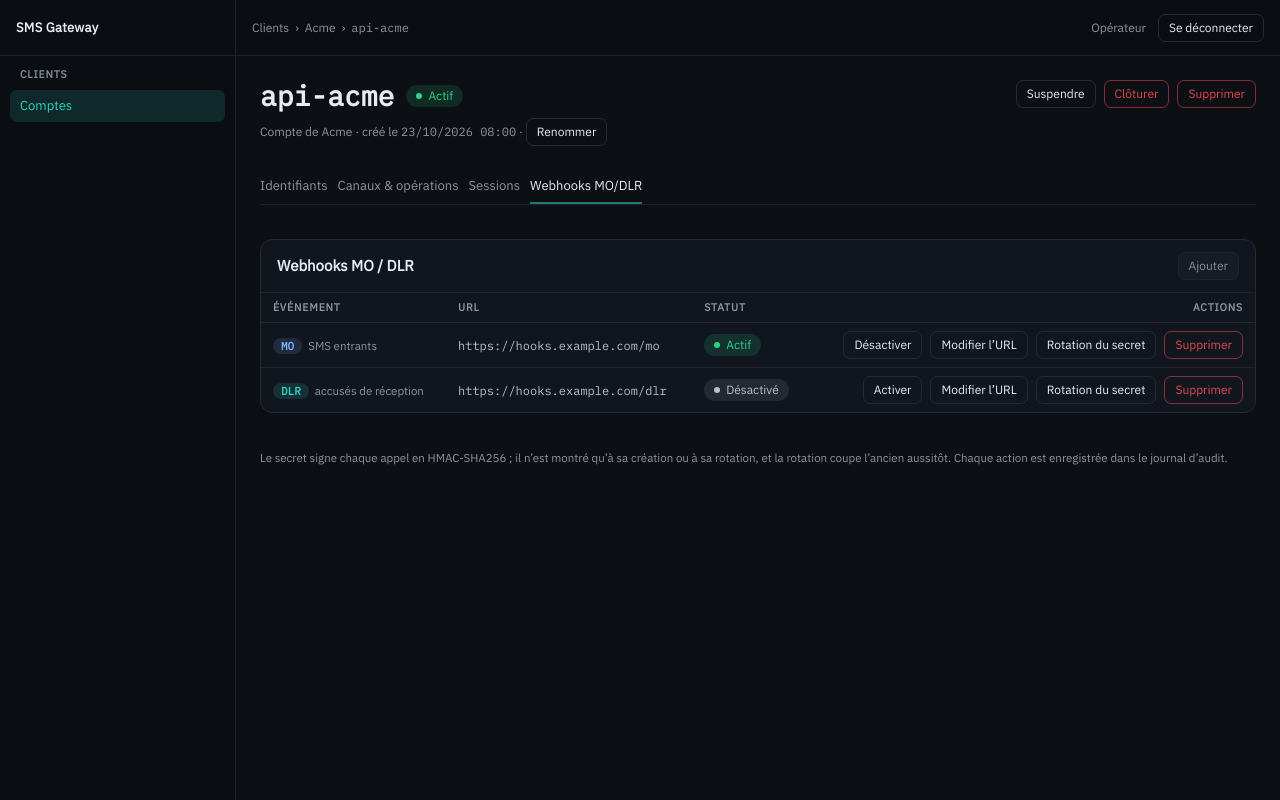
Test: disabling and enabling are confirmed, send the status alone and are told in a toast
Click the button "Désactiver": (883, 345) [844,331,922,359]
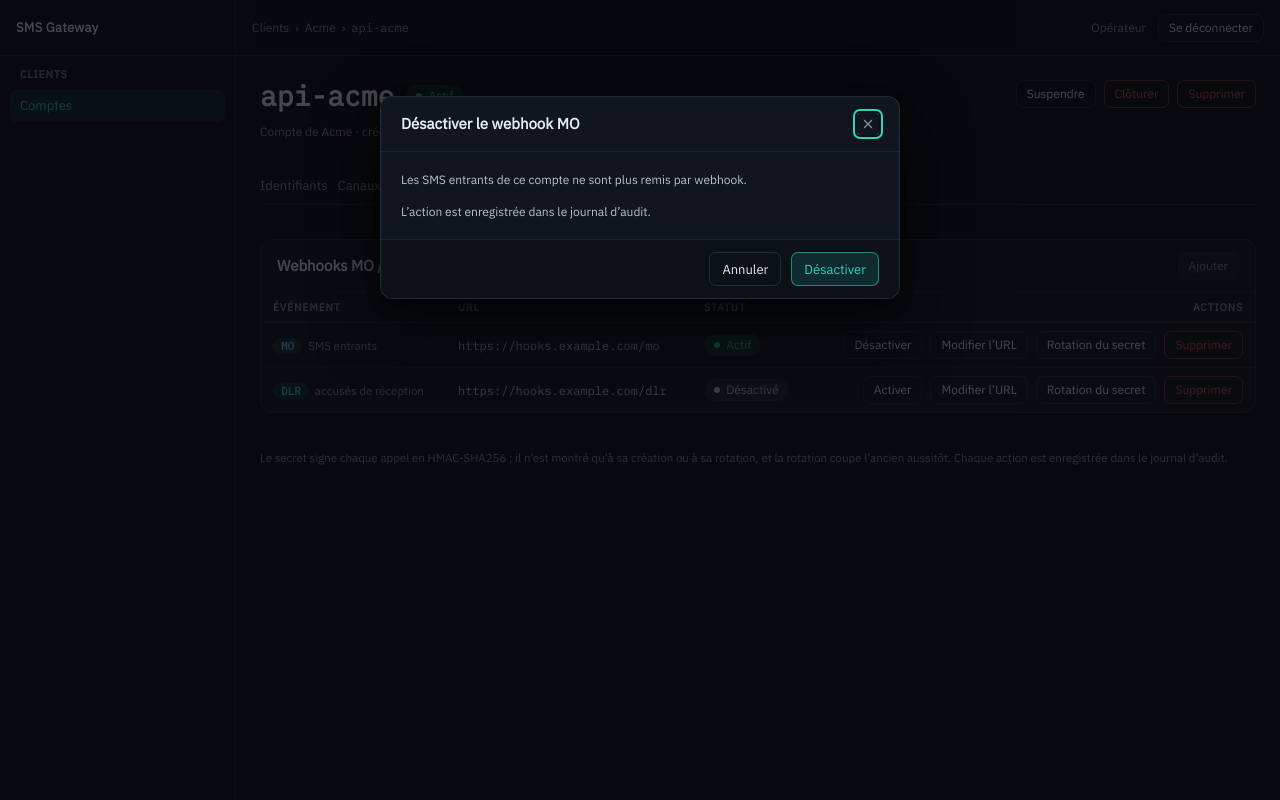
Expected: the dialog "Désactiver le webhook MO" shows "Les SMS entrants de ce compte ne sont plus remis par webhook.", [380,96,900,299]
Click the button "Désactiver": (835, 269) [791,252,879,286]
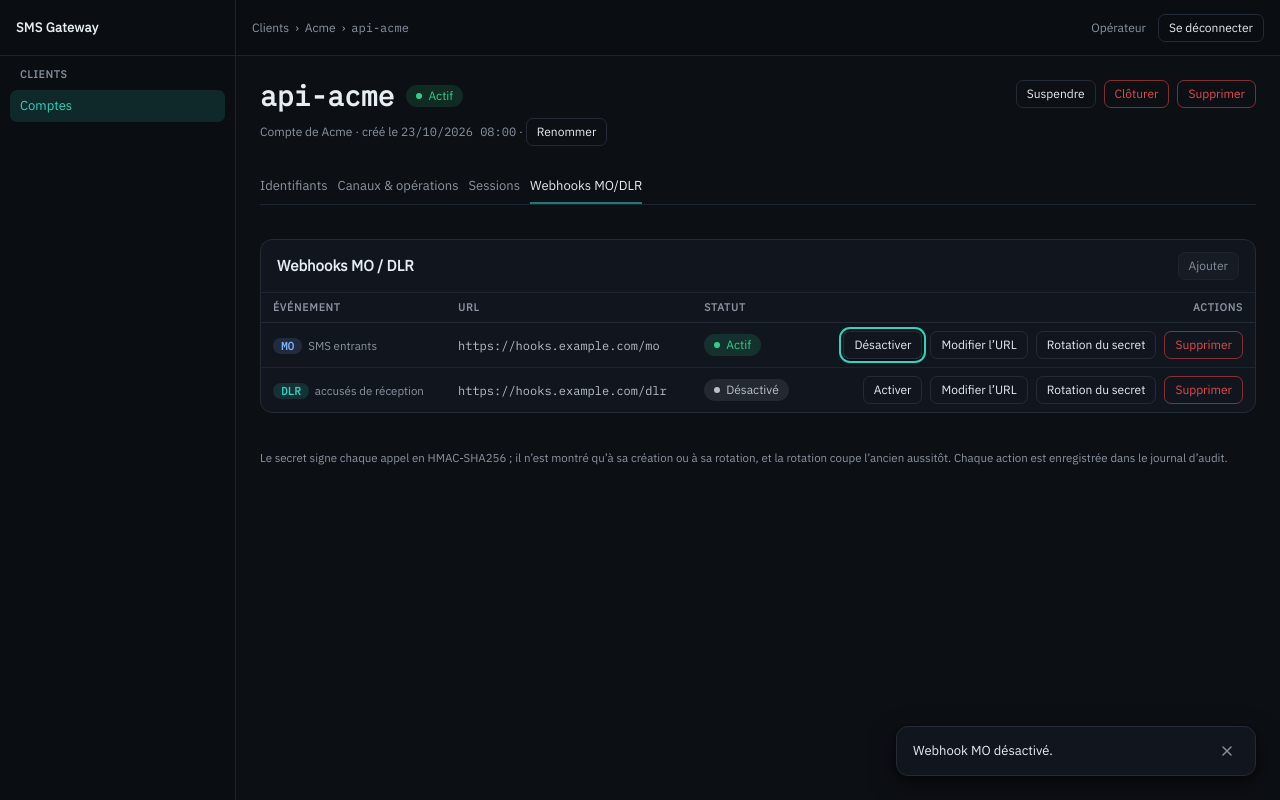
Expected: the element with class "ui-toast" is shown, [896,726,1256,776]
Click the button "Activer": (893, 390) [863,376,922,404]
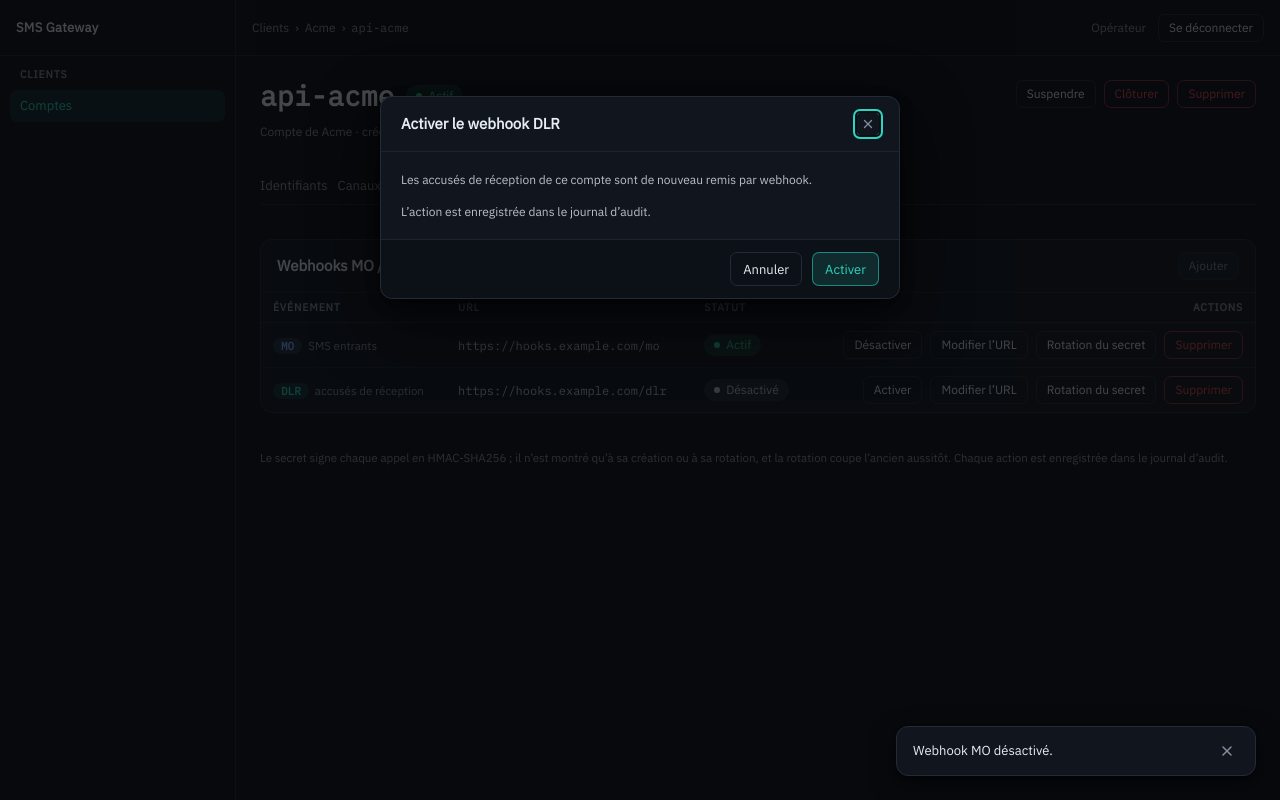
Expected: the dialog "Activer le webhook DLR" shows "Les accusés de réception de ce compte sont de nouveau remis par webhook.", [380,96,900,299]
Click the button "Activer": (846, 269) [812,252,879,286]
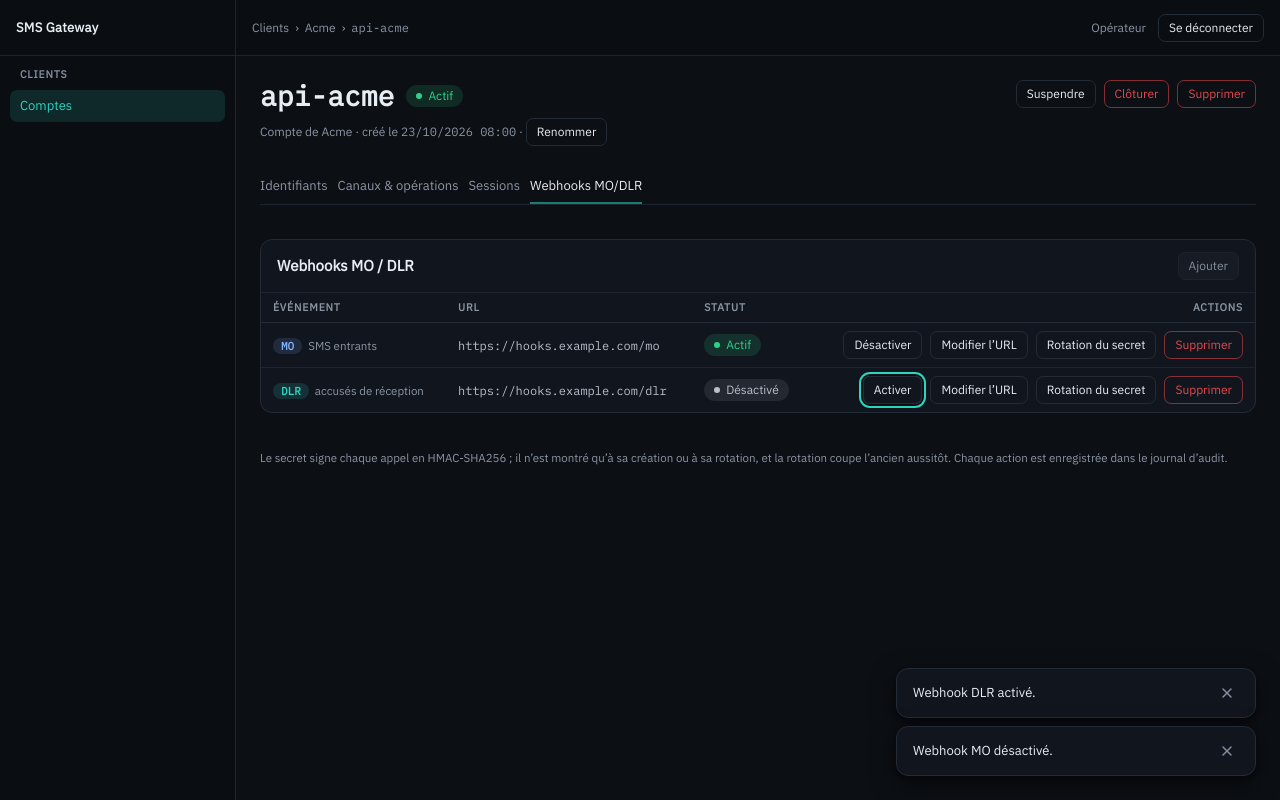
Expected: the element with class "ui-toast" showing "Webhook DLR activé." is shown, [896,668,1256,718]
Expected: the text "Webhook DLR activé." is shown, [913,684,1036,701]
